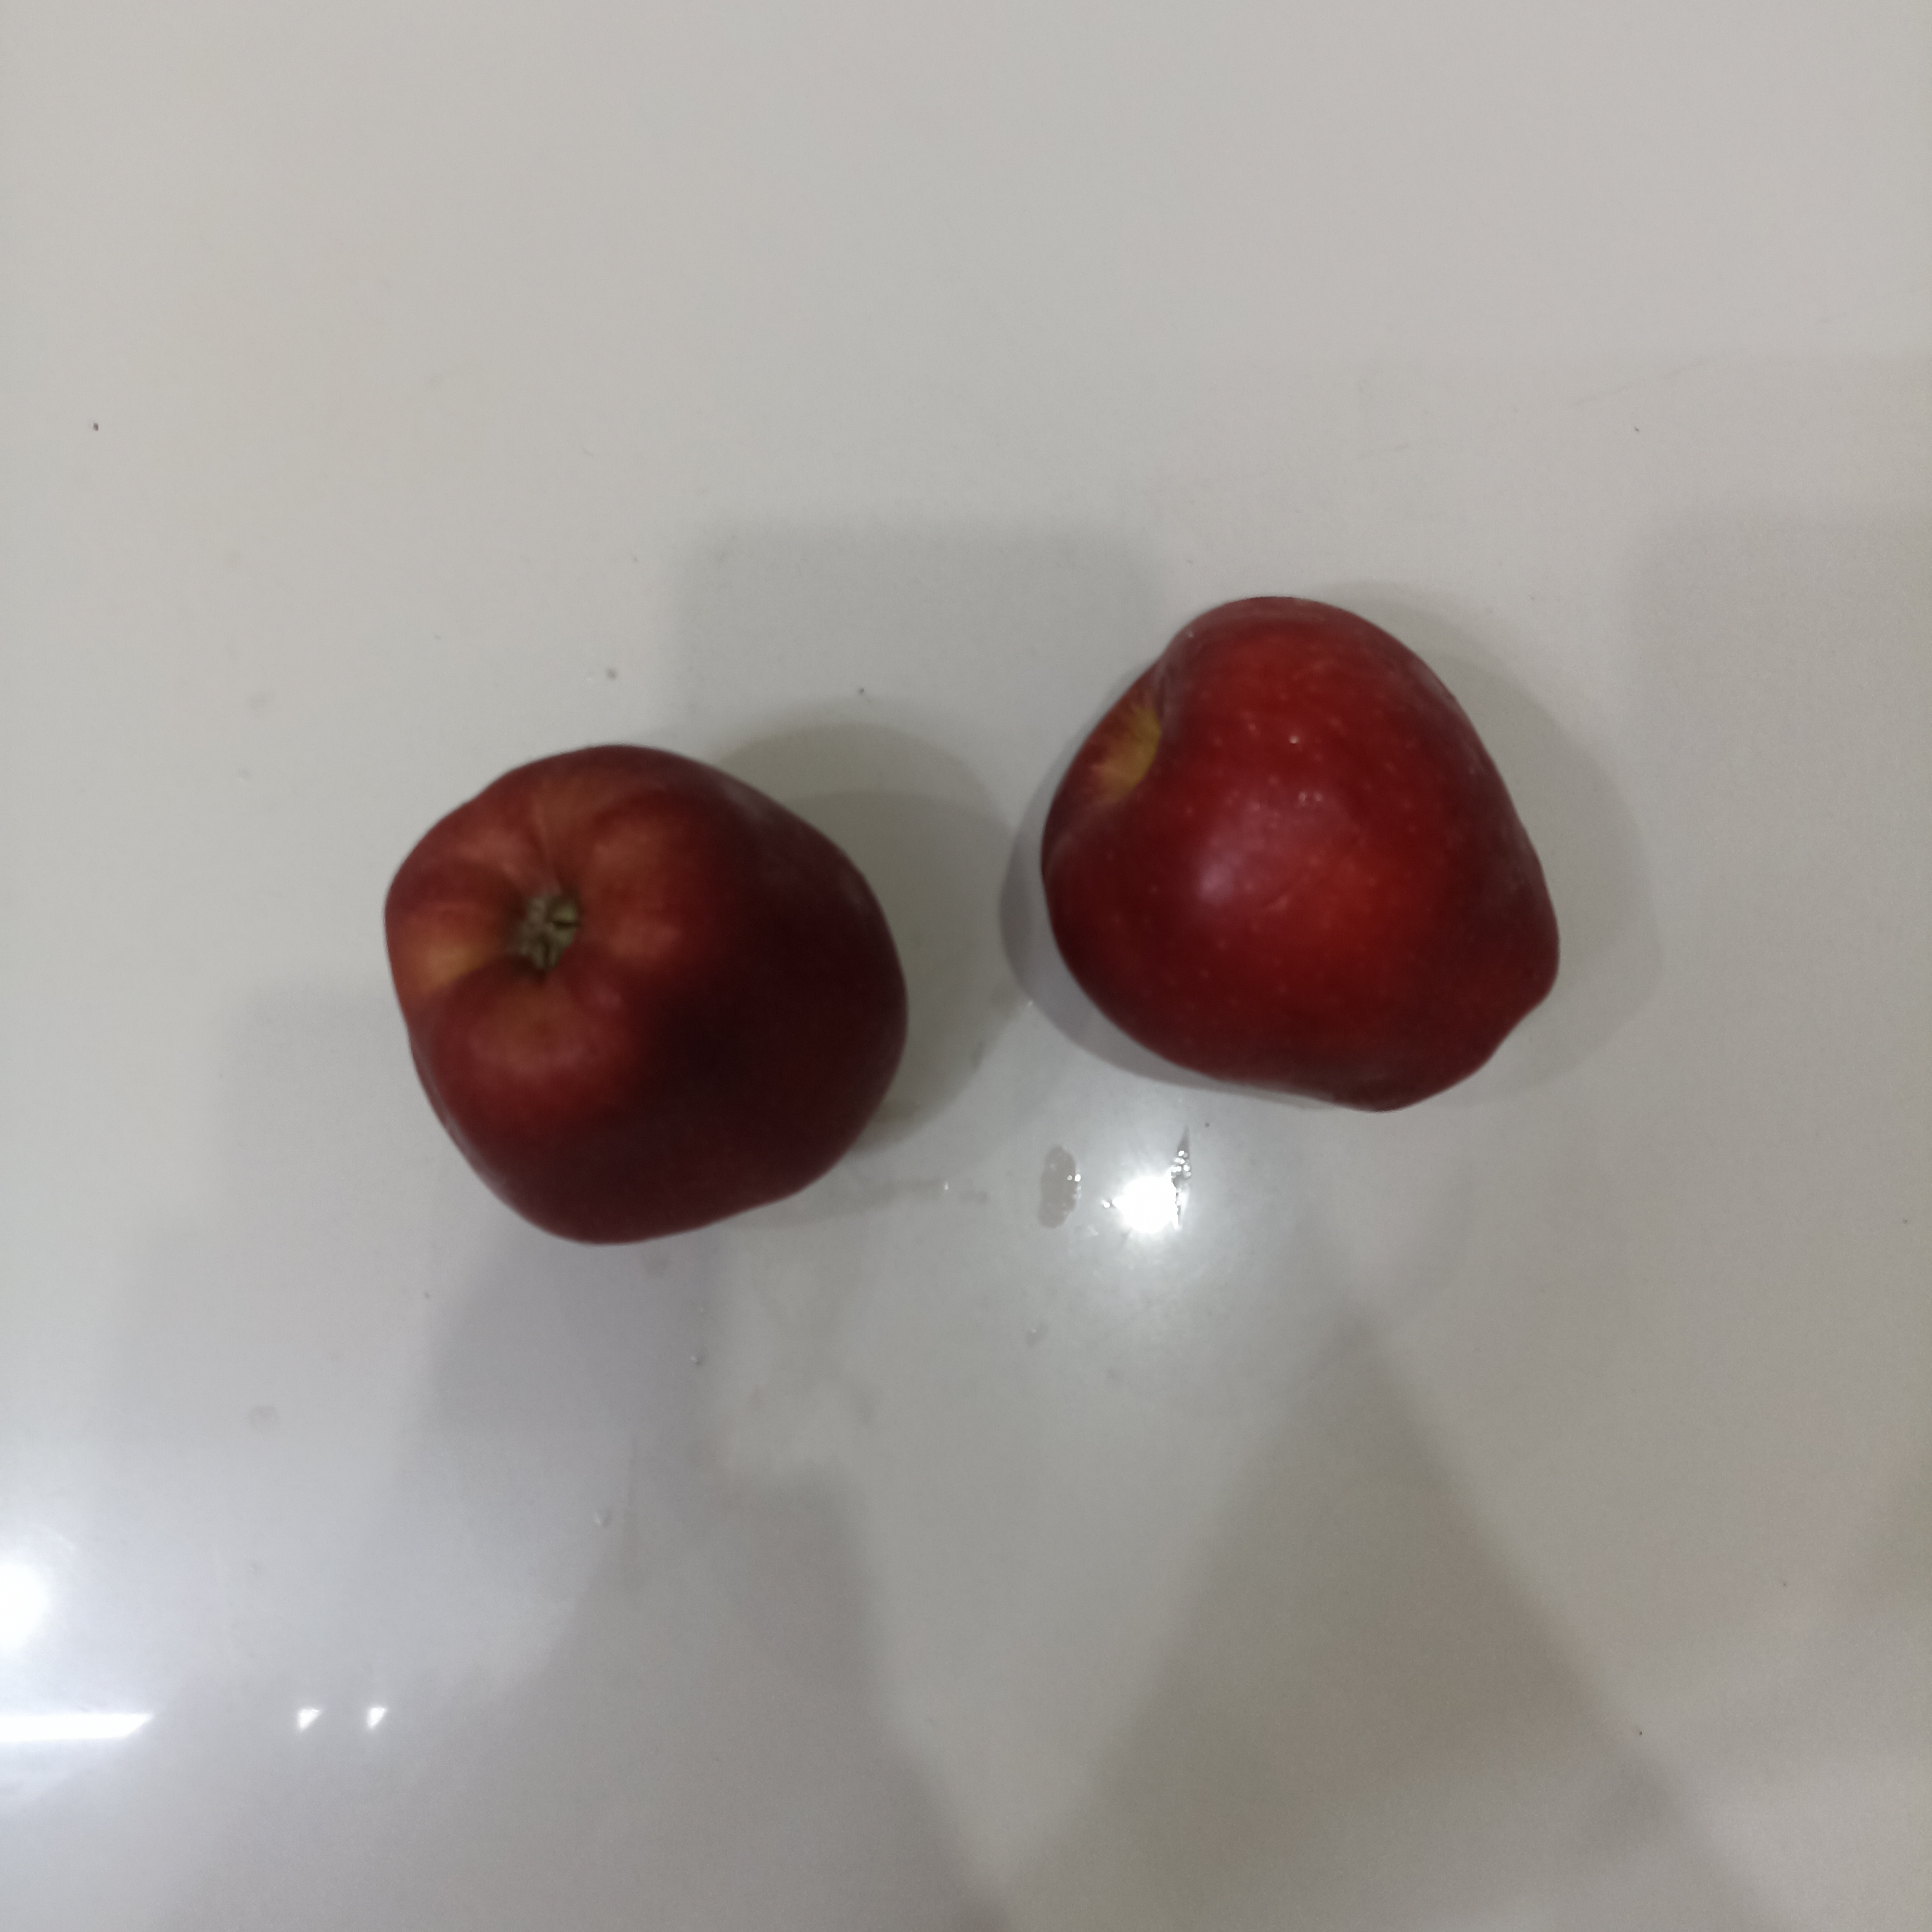Tao do: (1039, 587, 1566, 1108), (384, 740, 904, 1253)
